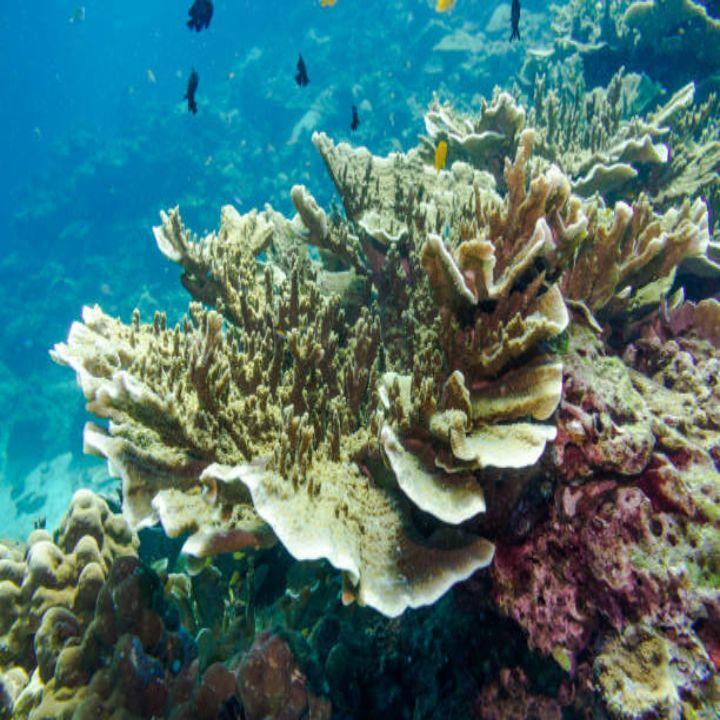Healthy Coral: (50, 160, 682, 671)
